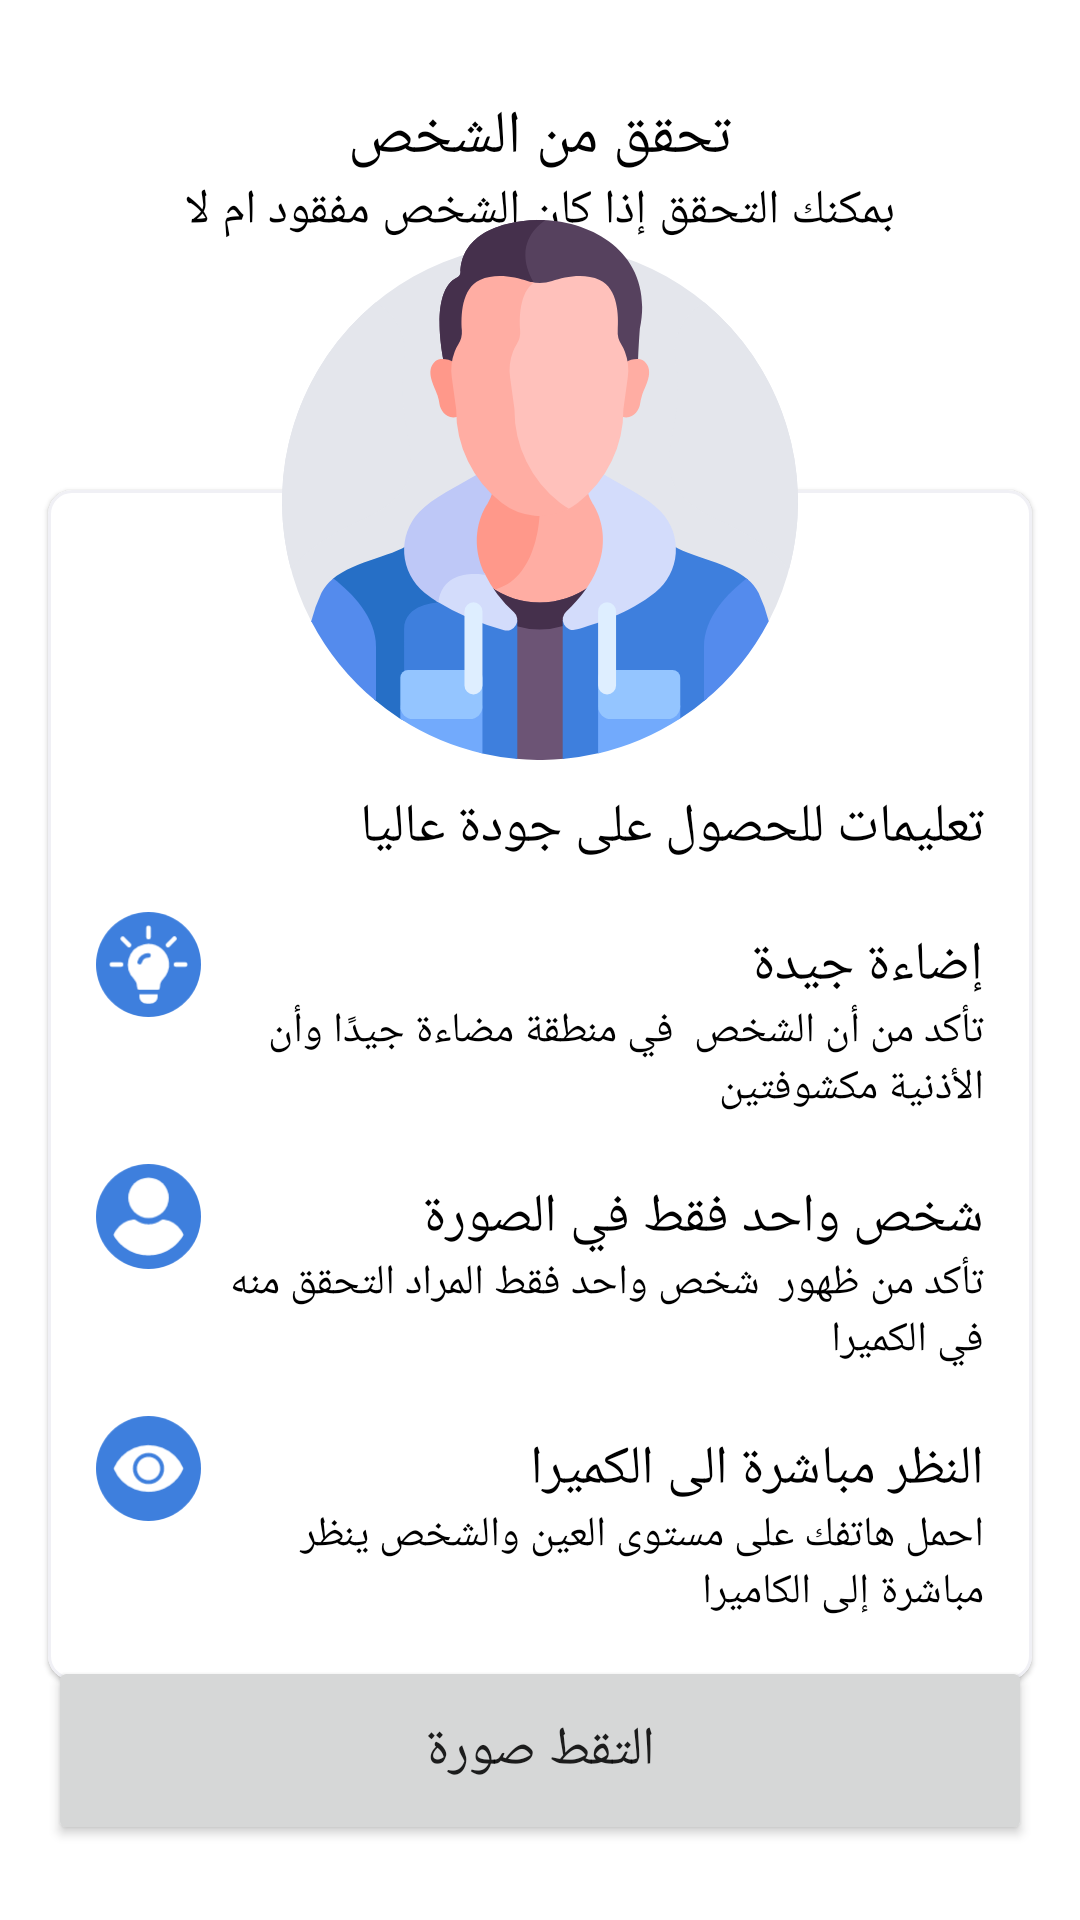

Named icons in this screenshot (1080x1920) and their bounding boxes, BBox(x1, y1, x2, y2):
eye detect: BBox(96, 1416, 201, 1521)
lamb: BBox(96, 912, 201, 1017)
person detect: BBox(96, 1164, 201, 1269)
